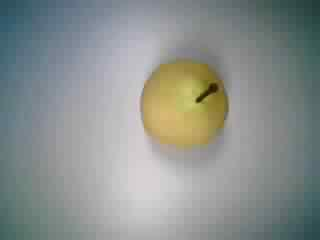pear: (133, 55, 234, 153)
